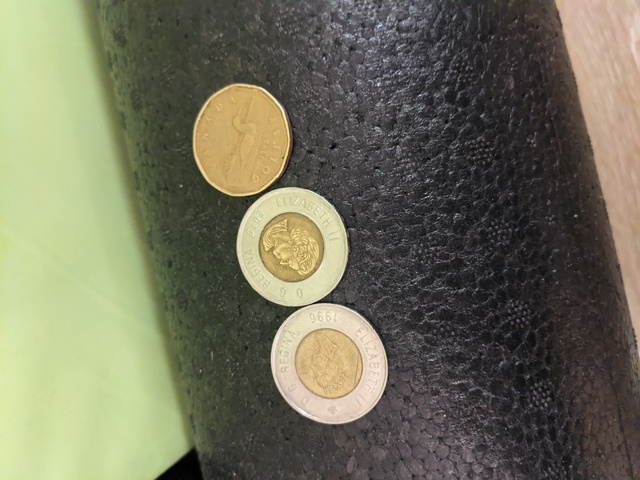loonie: (173, 81, 313, 193)
twonie: (251, 293, 396, 429), (228, 178, 357, 300)
